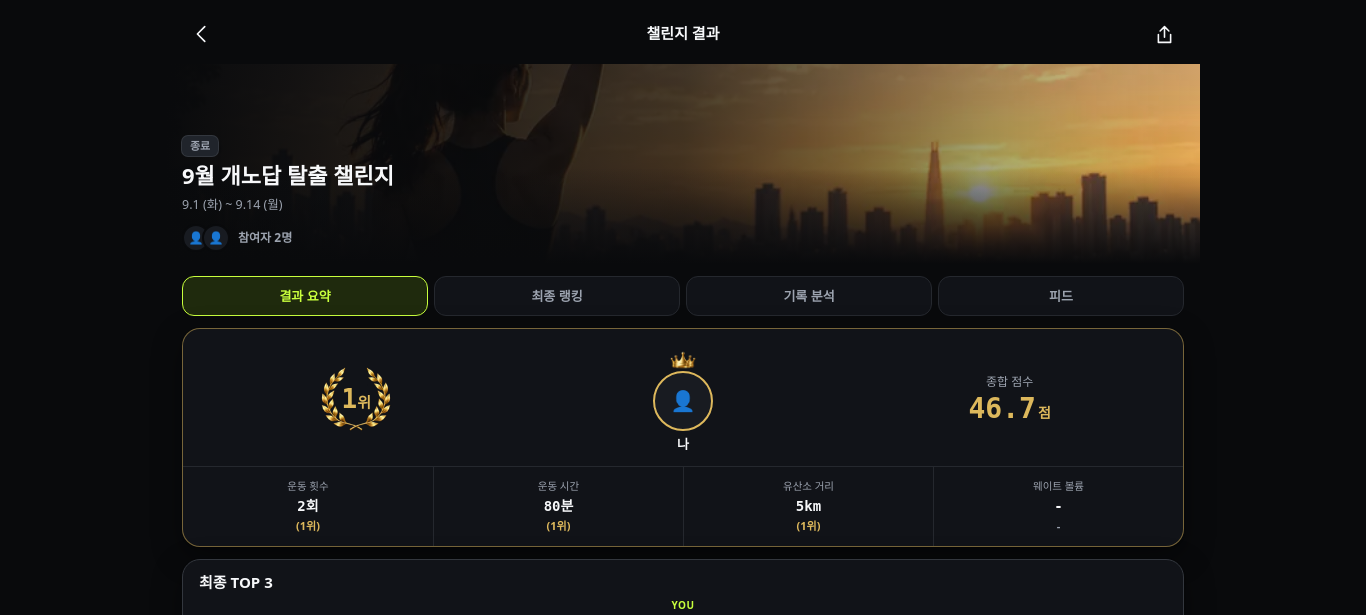
Test: 종료 화면 — 최종 시안 (히어로 + 4탭) › 피드 탭 — 끝난 챌린지는 활동 피드가 닫혔다고 말한다
Click the tab "피드": (1061, 296) [938,276,1184,316]
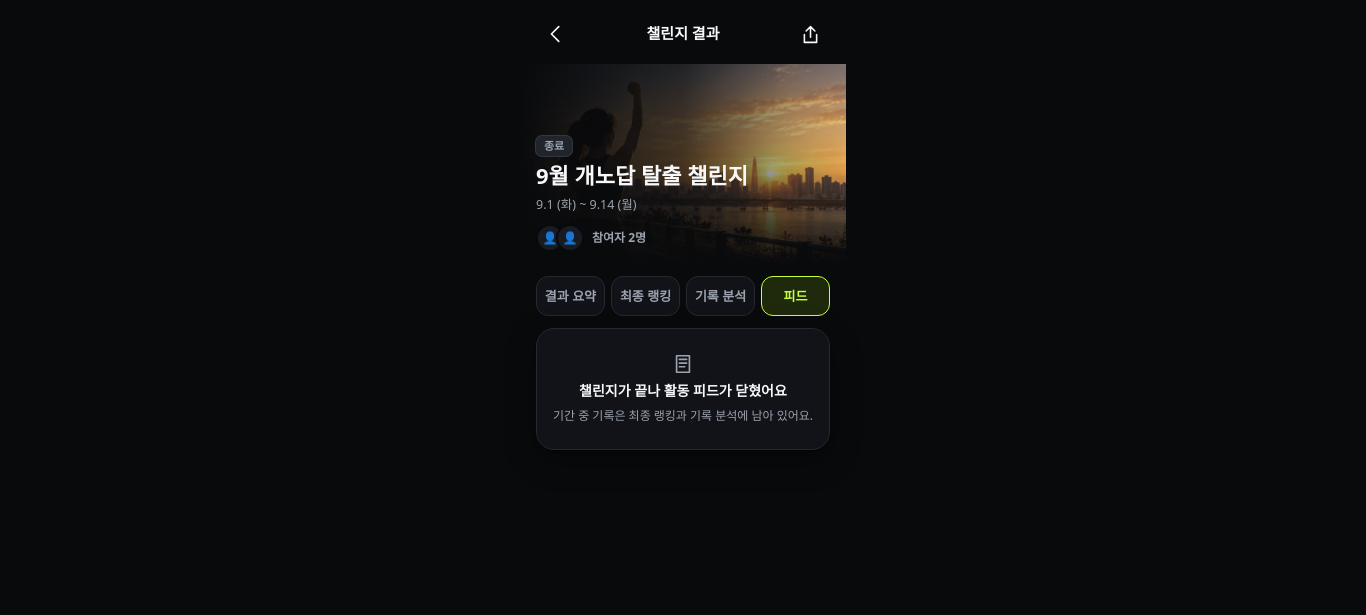
Check: the text "챌린지가 끝나 활동 피드가 닫혔어요" is shown, box [579,381,787,401]
